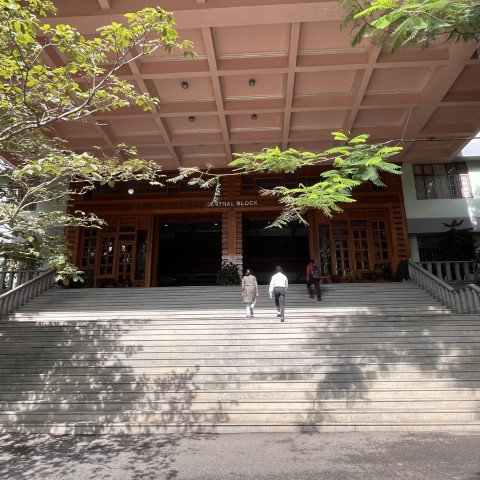Central Block: (82, 3, 480, 480)
